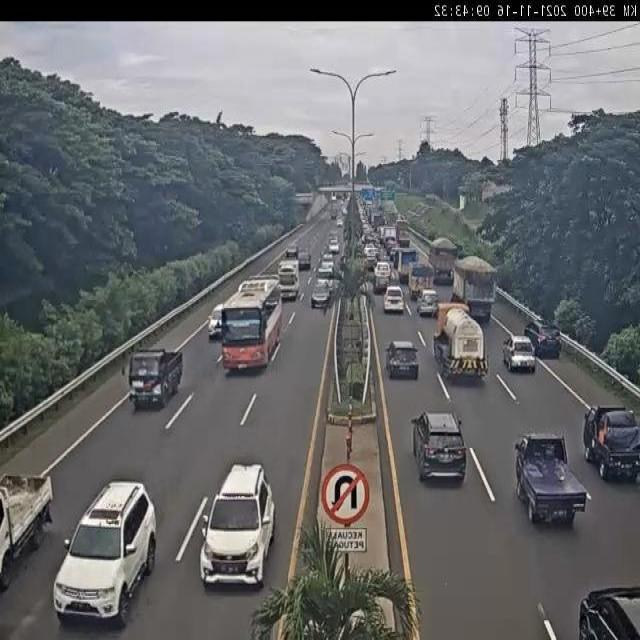Bus: (220, 278, 280, 375)
Car: (53, 480, 159, 628), (198, 462, 275, 587), (515, 433, 589, 524), (0, 473, 54, 594), (582, 404, 640, 481), (411, 411, 467, 483), (578, 584, 640, 640), (128, 348, 183, 409), (525, 321, 563, 359), (385, 340, 420, 380), (502, 334, 535, 373), (416, 288, 439, 318), (311, 278, 333, 309), (208, 303, 225, 340), (383, 286, 405, 314), (374, 262, 392, 292), (317, 262, 335, 283), (363, 245, 378, 267), (297, 250, 311, 270), (328, 238, 340, 255), (322, 252, 334, 268), (285, 246, 298, 259), (336, 218, 344, 228)
Truck: (434, 302, 489, 381), (454, 256, 492, 316), (277, 260, 301, 300)
